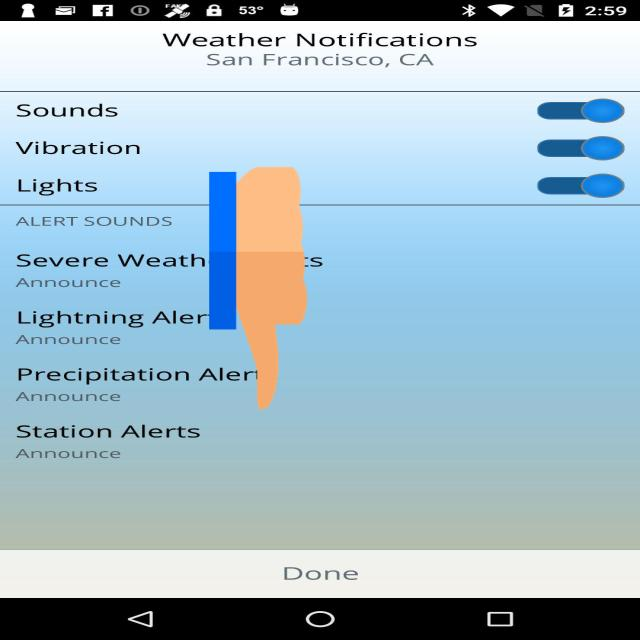obstruction: (209, 161, 307, 416)
